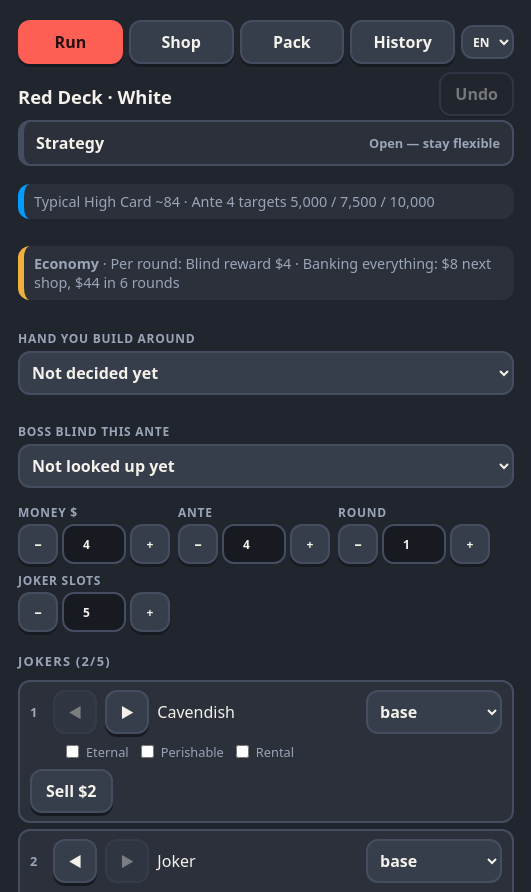
it: reorders jokers with the arrow buttons
Click the button named "move Cavendish right". click: (127, 712)
box: [105,690,149,734]
(page scrolled)
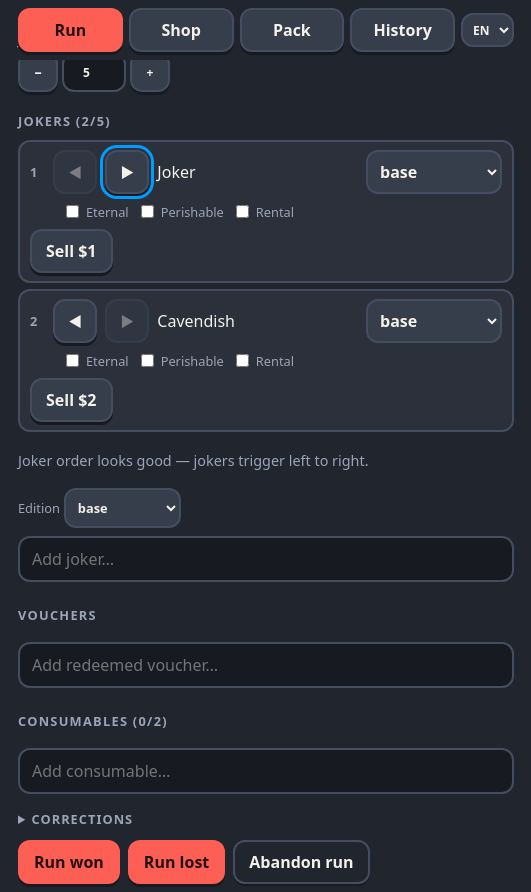
Check: the text "Joker order looks good — jokers trigger left to right." is shown, box [18,451,368,470]
